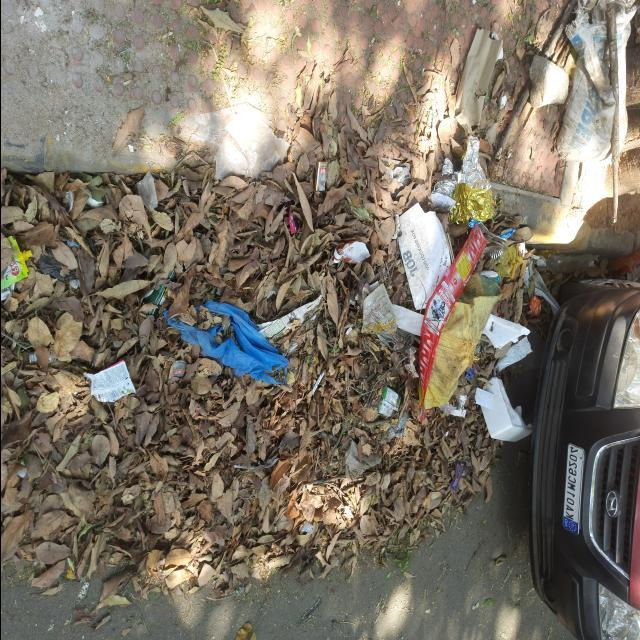Cig_pack: (314, 162, 328, 192), (168, 360, 185, 380)
Disposable: (489, 247, 504, 258)
Garbage: (0, 28, 602, 612), (204, 12, 236, 38)
Glass_bottle: (142, 283, 165, 307), (166, 270, 175, 282), (149, 310, 154, 315)
Plastic: (424, 273, 500, 410), (62, 190, 72, 212), (264, 458, 278, 468), (232, 465, 254, 470)
Plastic_Bag: (418, 225, 485, 420), (424, 273, 500, 408), (166, 300, 288, 383), (38, 255, 75, 280), (495, 245, 522, 278), (332, 242, 369, 263), (136, 172, 156, 210), (311, 372, 324, 395), (438, 402, 454, 417), (499, 228, 515, 240), (84, 238, 94, 252), (464, 367, 474, 380)
Plastic_Container: (86, 197, 104, 208)
Plastic_wraper: (430, 135, 492, 223), (82, 360, 135, 402), (0, 237, 31, 290), (378, 387, 399, 417), (288, 212, 296, 233), (489, 247, 504, 258), (299, 522, 312, 533), (65, 240, 78, 248)
Thermocol: (474, 377, 531, 442), (482, 313, 529, 348), (451, 395, 465, 418)
